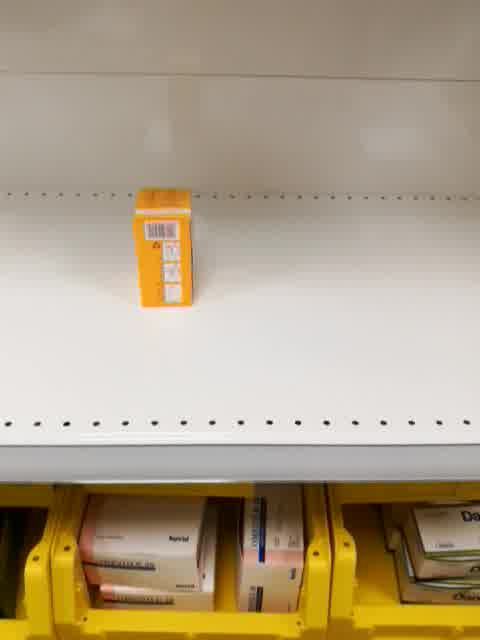jasminetea: (133, 188, 196, 308)
